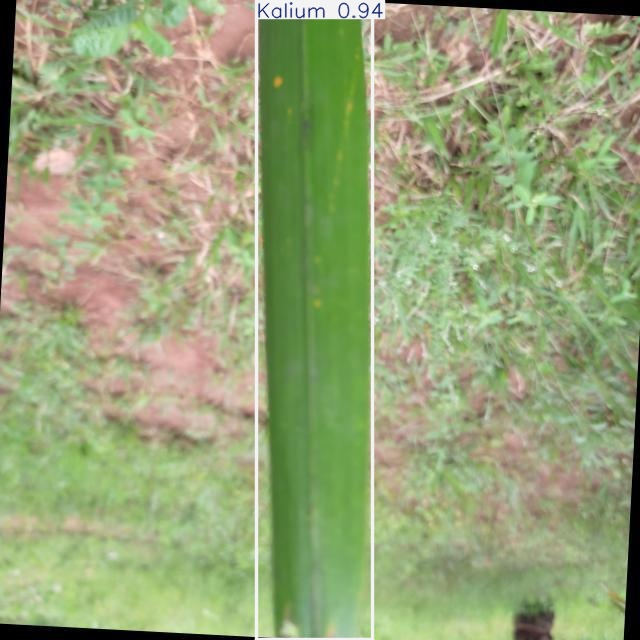Kalium: (256, 0, 373, 640)
